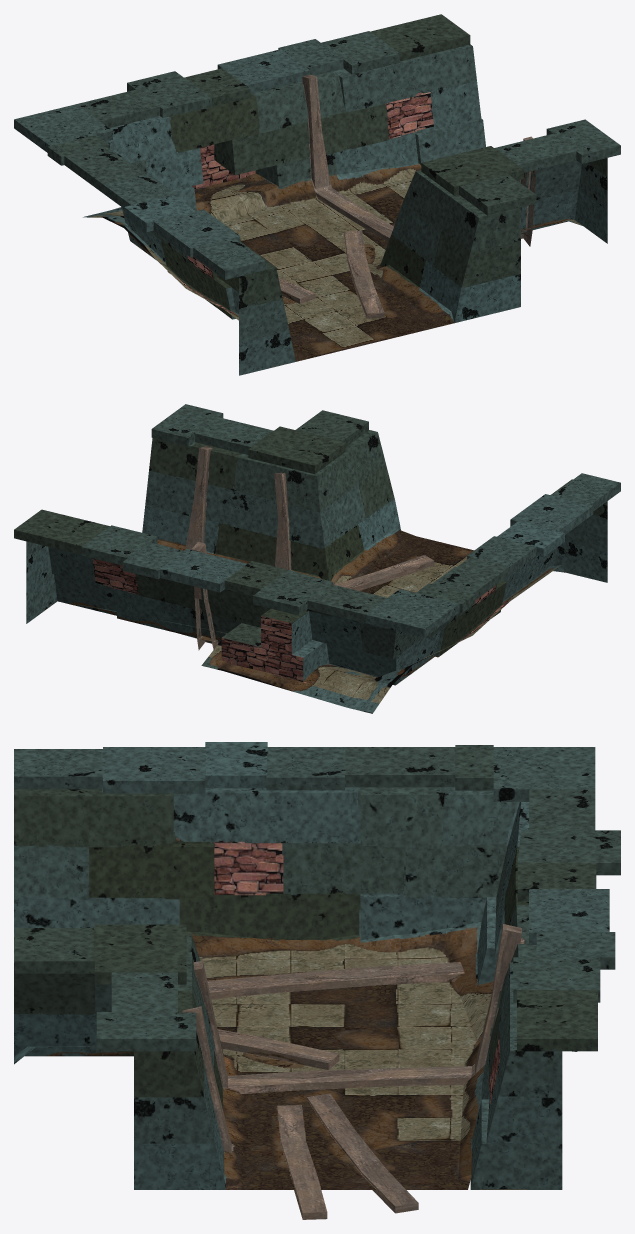
File: turn corridor.fbx
3 views of the same model, one above another, from view 1: azimuth 30°, elevation 25°; view 2: azimuth 150°, elevation 25°; view 3: azimuth 270°, elevation 25° (orthographic). The views are drawn at different scales.
Visible parts, largest first — view 1: turn corridor LP; view 2: turn corridor LP; view 3: turn corridor LP.
Boxes of the visible parts, x1=… form: turn corridor LP: x1=14, y1=14, x2=620, y2=375; turn corridor LP: x1=14, y1=404, x2=620, y2=713; turn corridor LP: x1=14, y1=742, x2=620, y2=1219.
Bounding box in the file's own units: 1370 × 341 × 1092.
